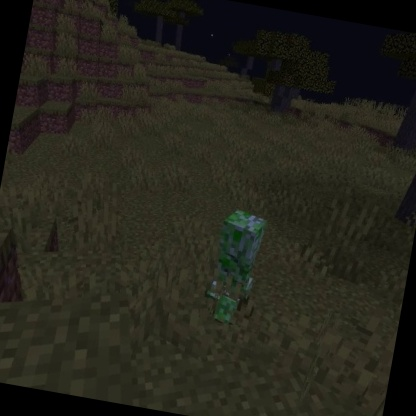creeper: (196, 203, 273, 334)
